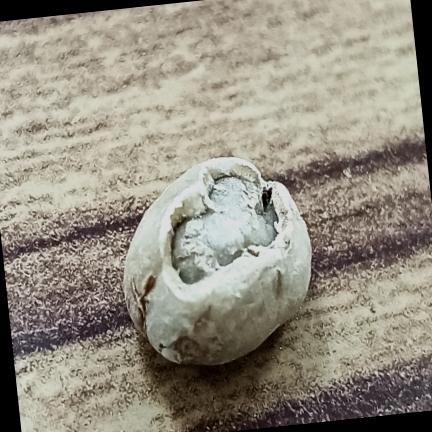cut: (123, 157, 311, 365)
